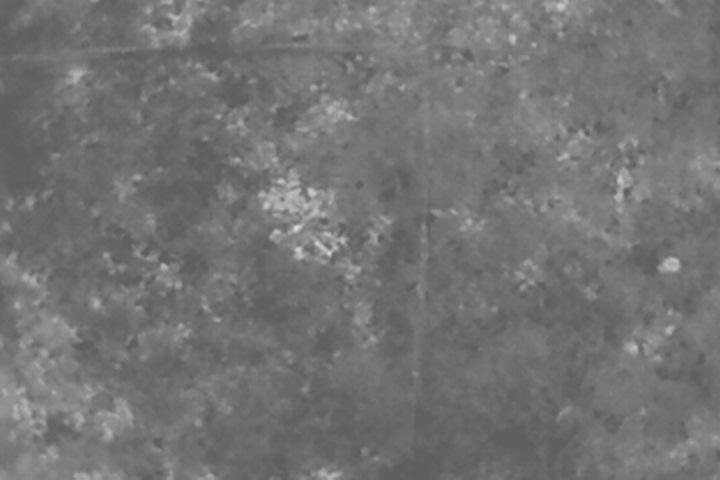landmine: (269, 185, 326, 222)
